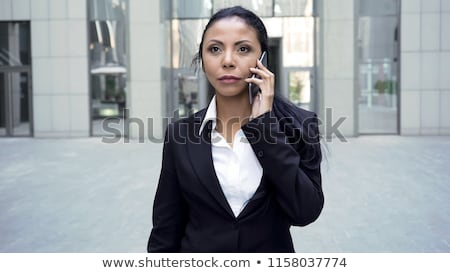phone: (250, 48, 272, 106)
talk: (205, 34, 275, 115)
